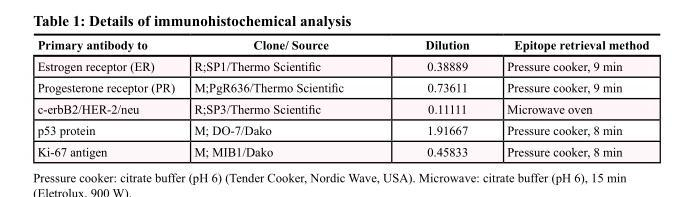table: (36, 37, 648, 158)
table column: (183, 37, 383, 158), (487, 37, 648, 158), (36, 37, 183, 158), (383, 37, 487, 158)
table column header: (36, 37, 648, 54)
table row: (36, 54, 648, 76), (36, 97, 648, 119), (36, 76, 648, 97), (36, 119, 648, 140), (36, 140, 648, 158), (36, 37, 648, 54)
